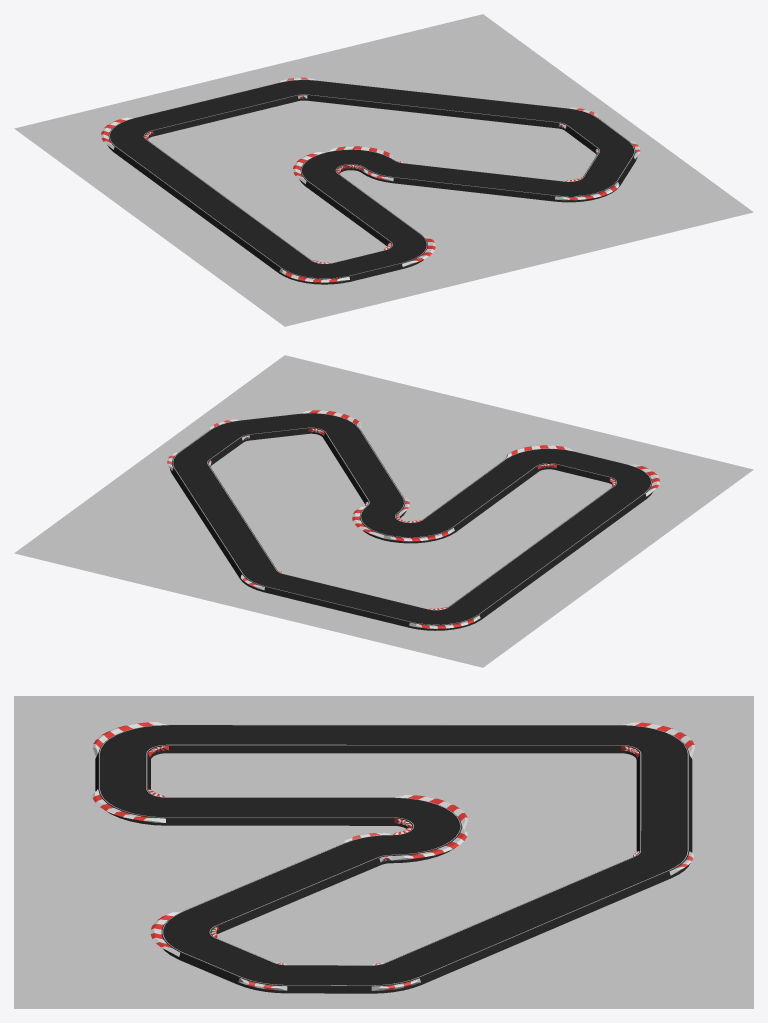
The model's file is track.fbx.
3 views of the same model, one above another, from view 1: azimuth 30°, elevation 25°; view 2: azimuth 150°, elevation 25°; view 3: azimuth 270°, elevation 25° (orthographic). The views are drawn at different scales.
Visible parts, largest first — view 1: Plane, 0degrees.005, 0degrees.006, 0degrees.004, 0degrees.001, 0degrees.003, 0degrees.002, 0degrees_small.001, 90degrees.002, 90degrees.006, 0degrees_small.003, 90degrees.005 (+6 smaller); view 2: Plane, 0degrees.005, 0degrees.004, 0degrees.003, 0degrees.001, 0degrees.002, 0degrees.006, 0degrees_small.002, 0degrees_small.001, 90degrees.003, 90degrees.004, 0degrees_small.003 (+5 smaller); view 3: Plane, 0degrees.005, 0degrees.002, 0degrees.003, 0degrees.001, 0degrees.006, 0degrees.004, 0degrees_small.003, 0degrees_small.002, 90degrees.005, 90degrees.001, 90degrees.003 (+8 smaller).
Part boxes in pixels (x1,y1,x2,y2): Plane: (14, 14, 753, 326); 0degrees.005: (307, 80, 567, 128); 0degrees.006: (393, 163, 564, 201); 0degrees.004: (135, 82, 298, 136); 0degrees.001: (304, 173, 421, 246); 0degrees.003: (113, 139, 228, 212); 0degrees.002: (196, 200, 311, 273); 0degrees_small.001: (332, 250, 402, 281); 90degrees.002: (279, 260, 350, 284); 90degrees.006: (554, 177, 619, 202); 0degrees_small.003: (565, 118, 627, 153); 90degrees.005: (327, 146, 395, 172); Plane: (14, 355, 753, 667); 0degrees.005: (171, 464, 276, 578); 0degrees.004: (264, 573, 427, 627); 0degrees.003: (448, 546, 564, 619); 0degrees.001: (422, 459, 538, 532); 0degrees.002: (531, 485, 647, 558); 0degrees.006: (323, 429, 402, 504); 0degrees_small.002: (240, 413, 308, 440); 0degrees_small.001: (555, 451, 626, 482); 90degrees.003: (409, 607, 480, 630); 90degrees.004: (383, 520, 455, 543); 0degrees_small.003: (179, 430, 243, 464); Plane: (14, 696, 753, 1008); 0degrees.005: (385, 856, 672, 984); 0degrees.002: (166, 724, 394, 753); 0degrees.003: (393, 724, 622, 753); 0degrees.001: (166, 797, 394, 825); 0degrees.006: (183, 843, 381, 932); 0degrees.004: (636, 754, 692, 852); 0degrees_small.003: (287, 965, 371, 993); 0degrees_small.002: (178, 937, 273, 984); 90degrees.005: (391, 827, 467, 863); 90degrees.001: (92, 788, 166, 825); 90degrees.003: (621, 722, 694, 759).
Size of the model in its own units: 88.61 by 1.23 by 88.61.
